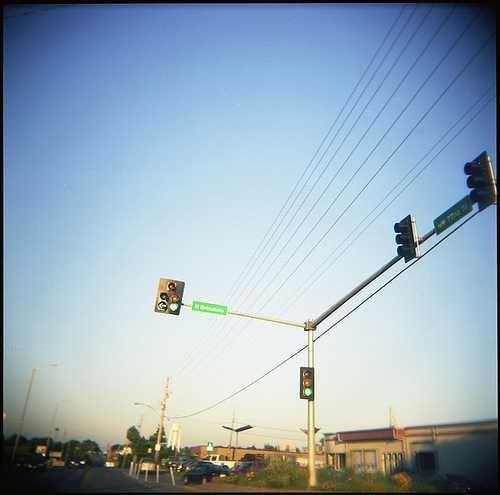2: (298, 364, 316, 400)
red traffic light: (300, 386, 314, 399)
